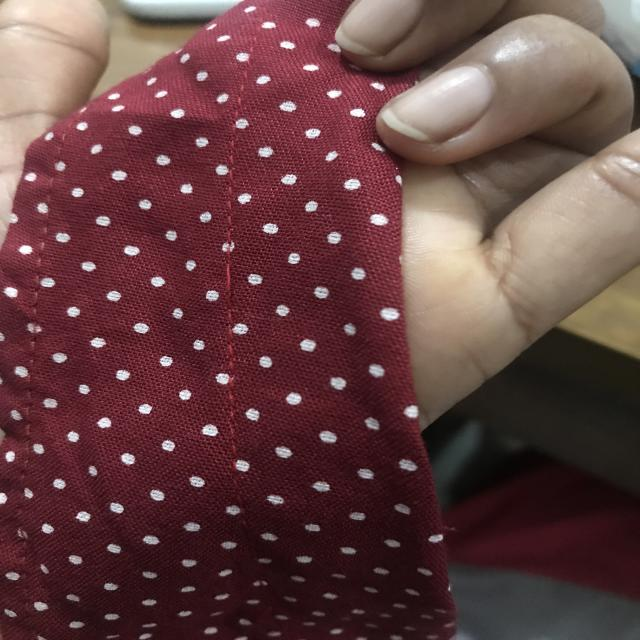skip: (203, 249, 256, 309)
